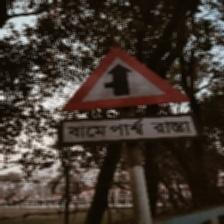Side-road-left: (59, 47, 198, 146)
